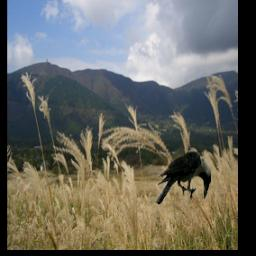Crow: (157, 150, 212, 204)
